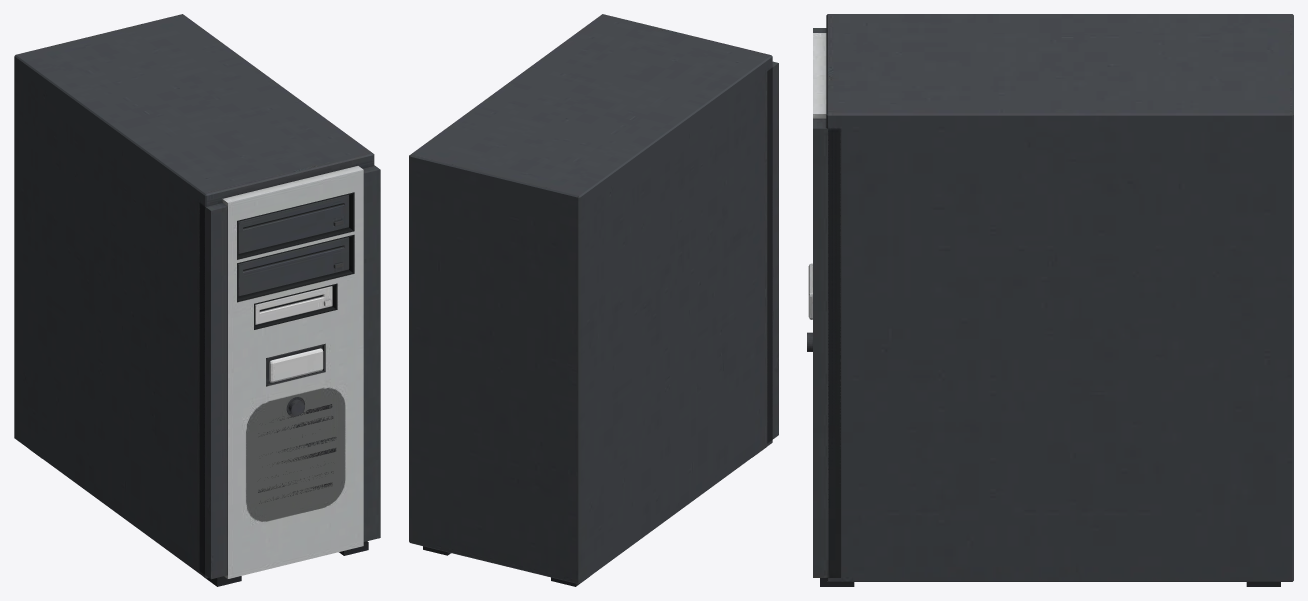
The model's file is tower-d.glb.
3 views of the same model, side by side, from view 1: azimuth 30°, elevation 25°; view 2: azimuth 150°, elevation 25°; view 3: azimuth 270°, elevation 25° (orthographic). The views are drawn at different scales.
Parts seen in each view (by area): view 1: case-baked; view 2: case-baked; view 3: case-baked.
Boxes of the visible parts, x1,y1,x2,y2 form: case-baked: (14, 14, 380, 586); case-baked: (409, 14, 778, 586); case-baked: (807, 14, 1293, 586).
Size of the model in its own units: 0.222 by 0.491 by 0.453.
Materials: 1 (1 with a texture image).
